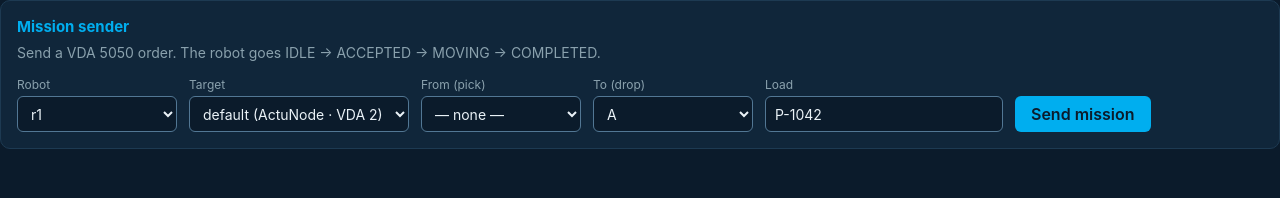
Test: copy › says an order was published and the robot state is awaited, not that the robot accepted it
The width and height of the screenshot is (1280, 198).
Click the button "Send mission": (1083, 114) x1=1015 y1=96 x2=1151 y2=132
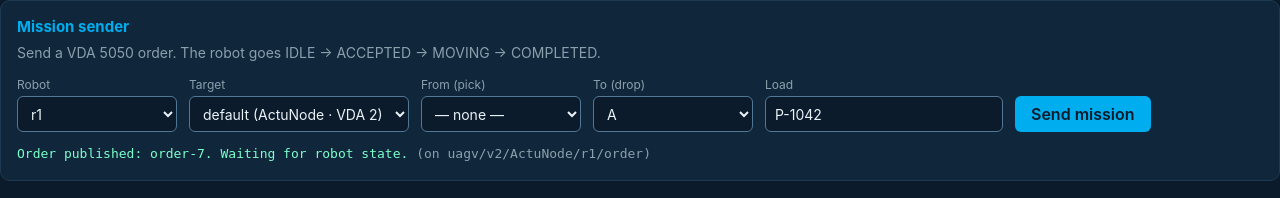
Result: the message shows "Order published: order-7. Waiting for robot state." at x1=17 y1=146 x2=408 y2=161
